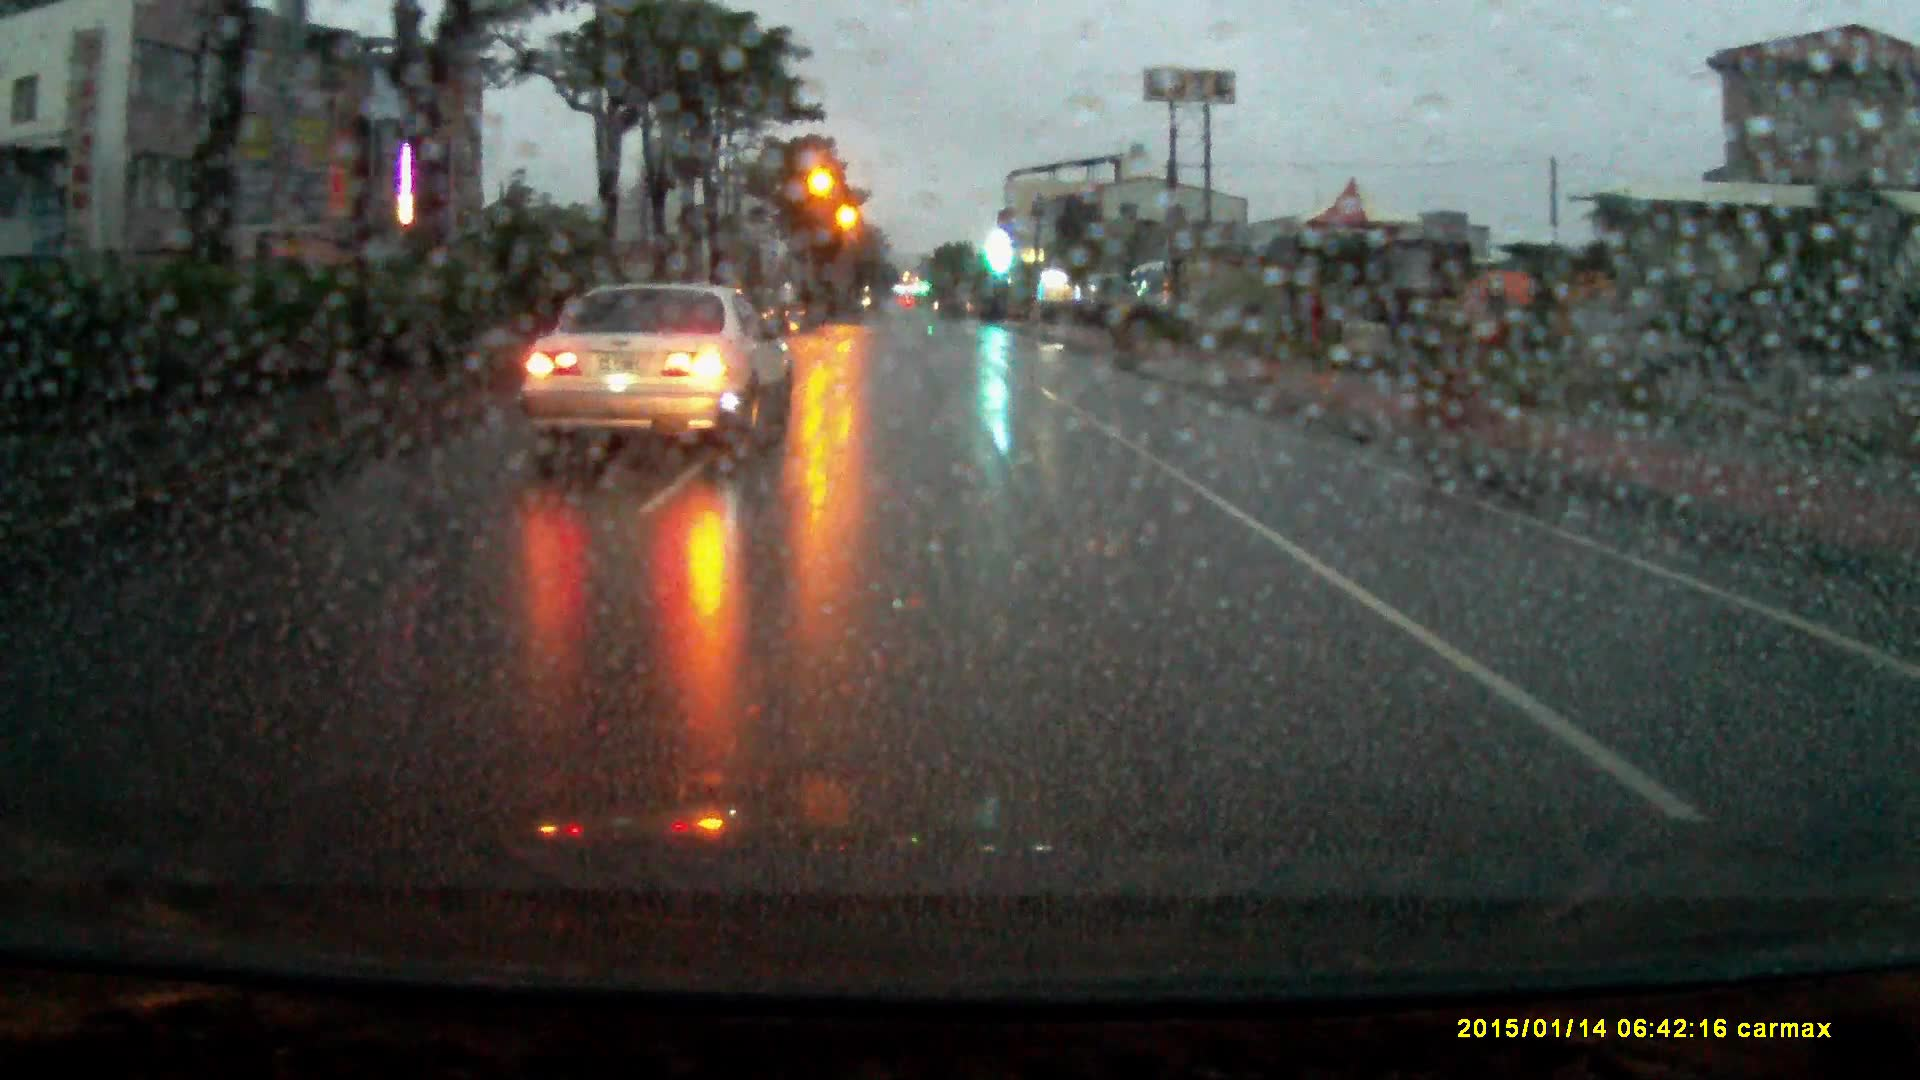pedestrian: (1459, 271, 1547, 456)
vehicle: (515, 286, 798, 471)
